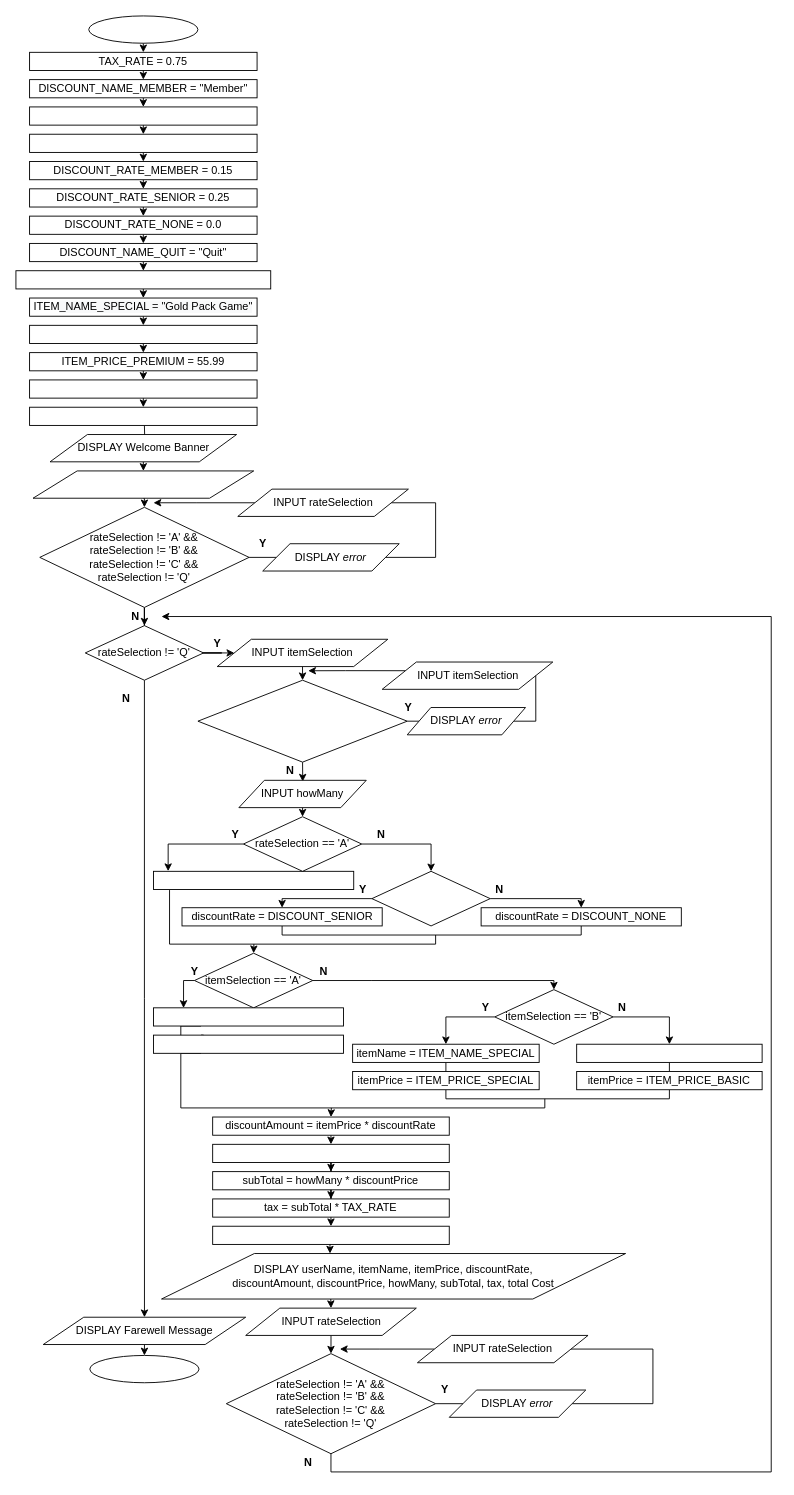
Image size: 794x1495. Some labels were removed from this diagram. The shapes that lost their labels are listed below. From the top down, each one's centre as x and y in pixels, then its label:
pixel 143 29: START
pixel 143 115: DISCOUNT_NAME_SENIOR = "Senior"
pixel 143 142: DISCOUNT_NAME_NONE = "No Discount"
pixel 143 279: ITEM_NAME_PREMIUM = "Platinum Pack Game"
pixel 143 334: ITEM_NAME_BASIC = "Base Game"
pixel 143 388: ITEM_PRICE_SPECIAL = 24.95
pixel 143 415: ITEM_PRICE_BASIC = 15.95
pixel 143 484: INPUT userName, rateSelection
pixel 302 720: itemSelection != 'A' && itemSelection != 'B' && itemSelection != 'C'
pixel 253 880: discountRate = DISCOUNT_MEMBER
pixel 430 898: rateSelection == 'B'
pixel 248 1016: itemName = ITEM_NAME_PREMIUM
pixel 248 1043: itemPrice = ITEM_PRICE_PREMIUM
pixel 669 1052: itemName = ITEM_NAME_BASIC
pixel 330 1153: discountPrice = itemPrice - discountAmount
pixel 330 1234: totalCost = subTotal + tax
pixel 144 1369: STOP
